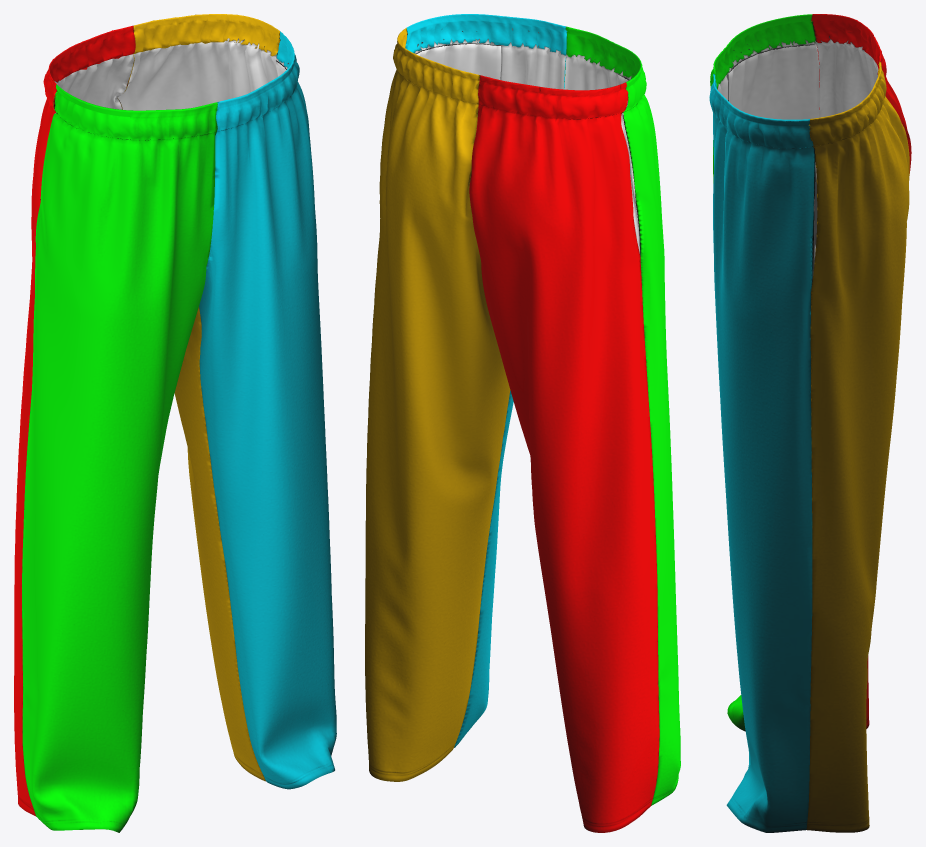
File: LegPantUnisex.glb
3 views of the same model, side by side, from view 1: azimuth 30°, elevation 25°; view 2: azimuth 150°, elevation 25°; view 3: azimuth 270°, elevation 25° (orthographic). The views are drawn at different scales.
Visible parts, largest first — view 1: 14Wide-LegPantUnisex; view 2: 14Wide-LegPantUnisex; view 3: 14Wide-LegPantUnisex.
Part boxes in pixels (x1,y1,x2,y2): 14Wide-LegPantUnisex: [14, 14, 336, 832]; 14Wide-LegPantUnisex: [365, 14, 680, 832]; 14Wide-LegPantUnisex: [709, 14, 911, 832].
Bounding box in the file's own units: 0.4489 × 1.07 × 0.2739.
Materials: 1 (1 with a texture image).
